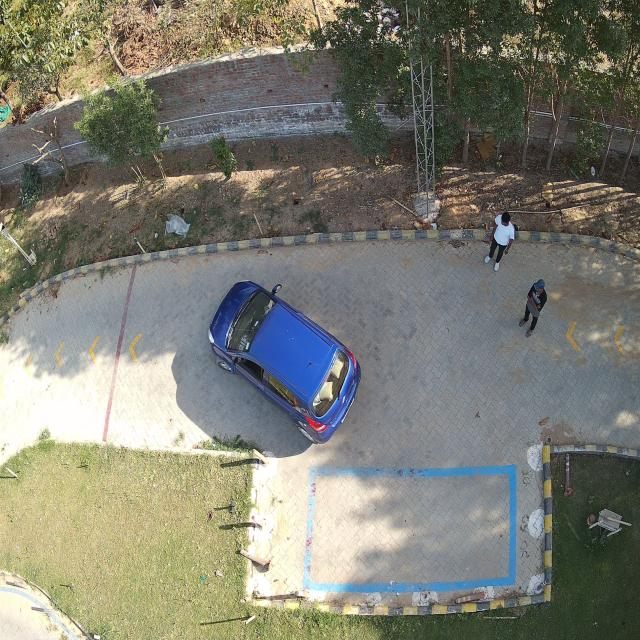car: (208, 280, 362, 445)
